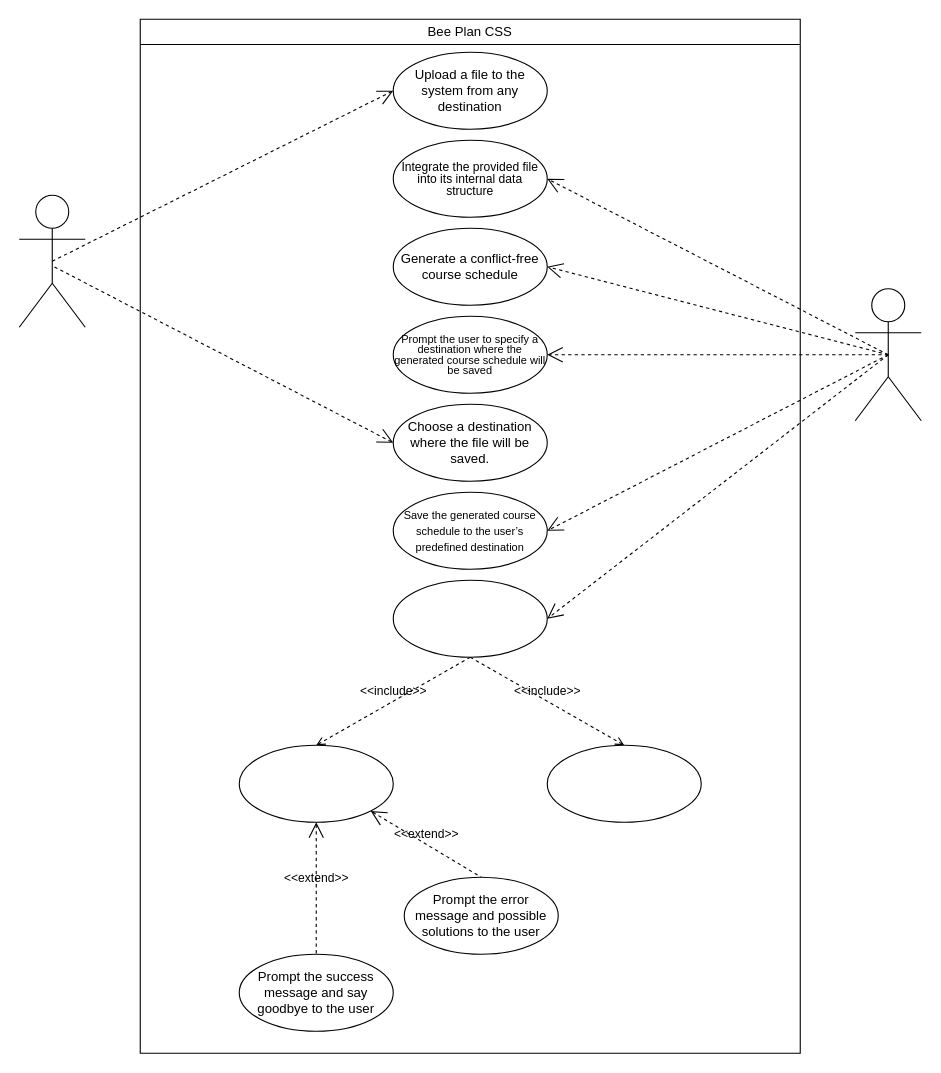
This 941x1073 diagram has some shape labels left out. The centre of each missing label's shape, as x and y in pixels:
"Inform the user about system status" belongs at point (315, 783).
"Run the process box" belongs at point (469, 618).
"System" belongs at point (887, 354).
"User" belongs at point (51, 260).
"Welcome to user and explain how to system works" belongs at point (623, 783).
